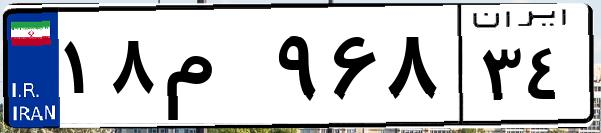1: (57, 26, 110, 100)
3: (475, 38, 525, 113)
4: (525, 38, 570, 115)
6: (330, 28, 385, 110)
8: (385, 28, 445, 110), (110, 28, 158, 98)
9: (270, 28, 330, 110)
م: (158, 20, 270, 120)
